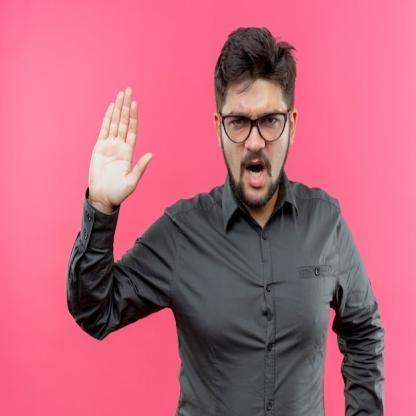stop: (90, 83, 152, 209)
